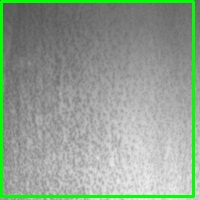pitted_surface: (1, 1, 193, 196)
